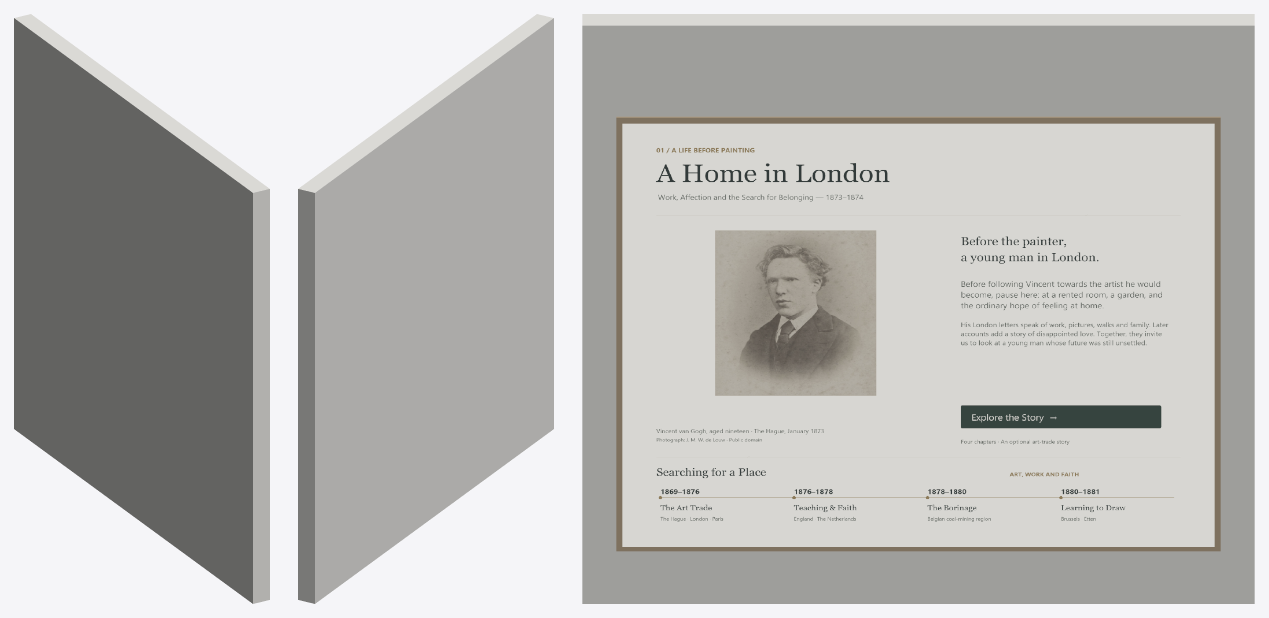
The model's file is story_transition_v20.glb.
3 renders of one model, left to right at view 1: azimuth 30°, elevation 25°; view 2: azimuth 150°, elevation 25°; view 3: azimuth 270°, elevation 25°, orthographic. The views are drawn at different scales.
Parts seen in each view (by area): view 1: 01 | London narrative wall backing; view 2: 01 | London narrative wall backing; view 3: 01 | A Home in London | Interactive story wall, 01 | London narrative wall backing, 01 | London narrative oak reveal.
Part boxes in pixels (x1,y1,x2,y2): 01 | London narrative wall backing: (14,14,269,603); 01 | London narrative wall backing: (298,14,553,603); 01 | A Home in London | Interactive story wall: (622,123,1214,546); 01 | London narrative wall backing: (582,14,1254,603); 01 | London narrative oak reveal: (616,116,1220,551).
Size of the model in its own units: 0.28 by 5.6 by 5.9.
3 materials, 1 textured.
